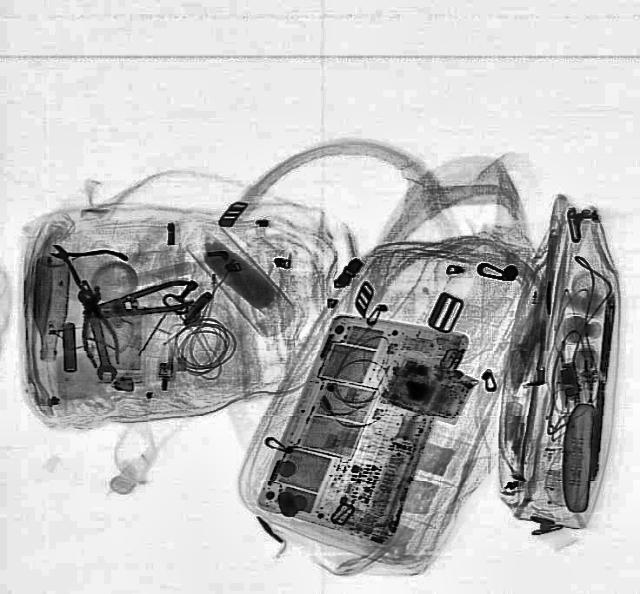Pliers: (35, 225, 128, 301), (75, 274, 197, 330), (66, 278, 122, 368)
Wrench: (72, 286, 120, 382)
